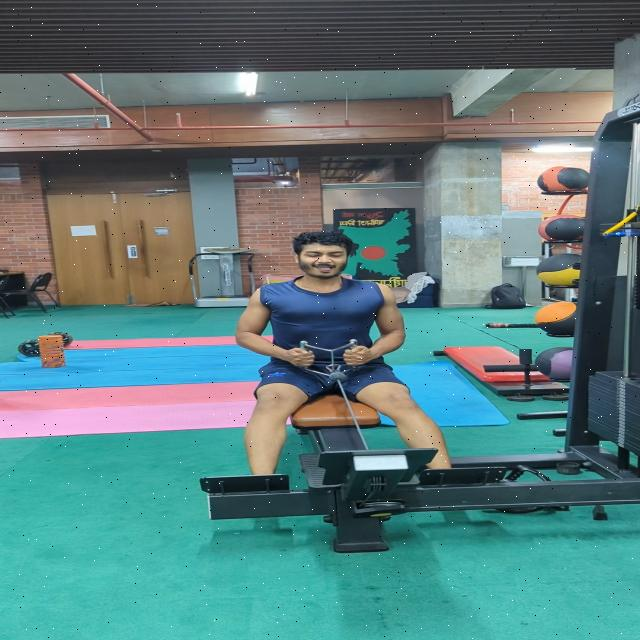Normal_RowingMachineExercise: (230, 229, 456, 500)
